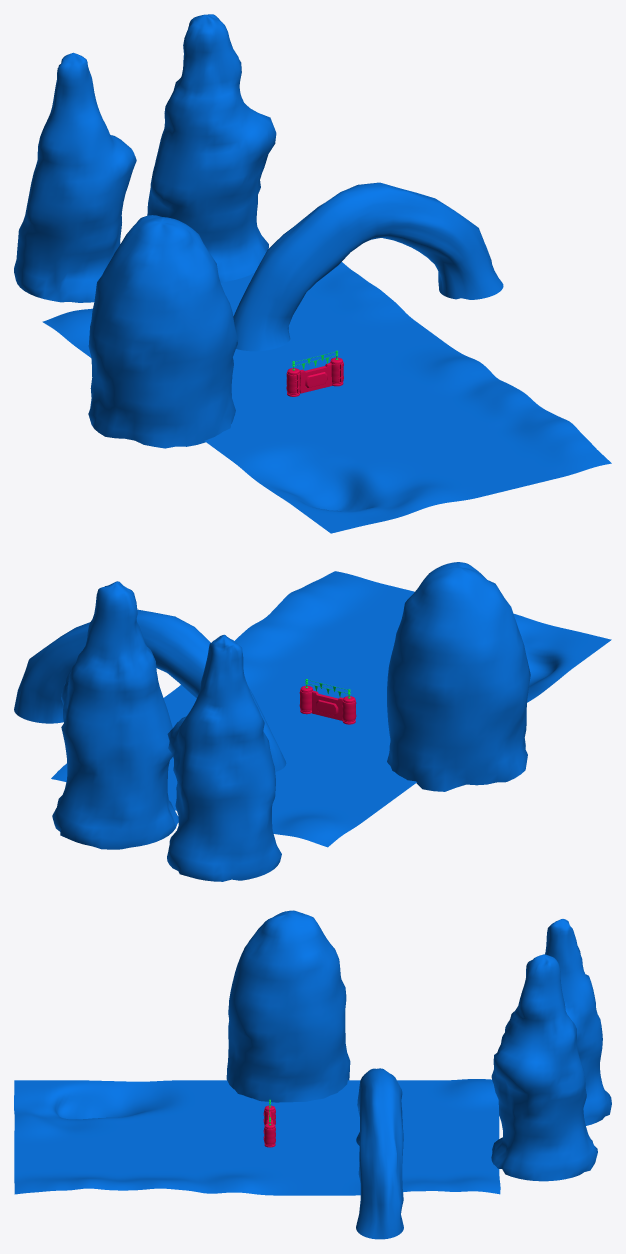
File: back_ground.fbx
3 views of the same model, one above another, from view 1: azimuth 30°, elevation 25°; view 2: azimuth 150°, elevation 25°; view 3: azimuth 270°, elevation 25° (orthographic). The views are drawn at different scales.
Visible parts, largest first — view 1: ground, cliff1, cliff3, cliff2, arch, barrel_divider1; view 2: ground, cliff1, cliff3, cliff2, arch, barrel_divider1; view 3: ground, cliff1, cliff3, arch, cliff2.
Part boxes in pixels (x1,y1,x2,y2): ground: (42, 262, 611, 533); cliff1: (88, 215, 237, 448); cliff3: (147, 14, 276, 282); cliff2: (14, 52, 136, 302); arch: (233, 182, 503, 351); barrel_divider1: (299, 363, 331, 393); ground: (51, 571, 611, 847); cliff1: (387, 562, 530, 791); cliff3: (52, 581, 178, 849); cliff2: (167, 634, 281, 881); arch: (14, 609, 286, 771); barrel_divider1: (312, 691, 343, 720); ground: (14, 1079, 500, 1195); cliff1: (226, 910, 350, 1102); cliff3: (491, 954, 597, 1181); arch: (356, 1068, 403, 1239); cliff2: (545, 919, 611, 1125).
Bounding box in the file's own units: 58.3 × 32.57 × 78.41.
